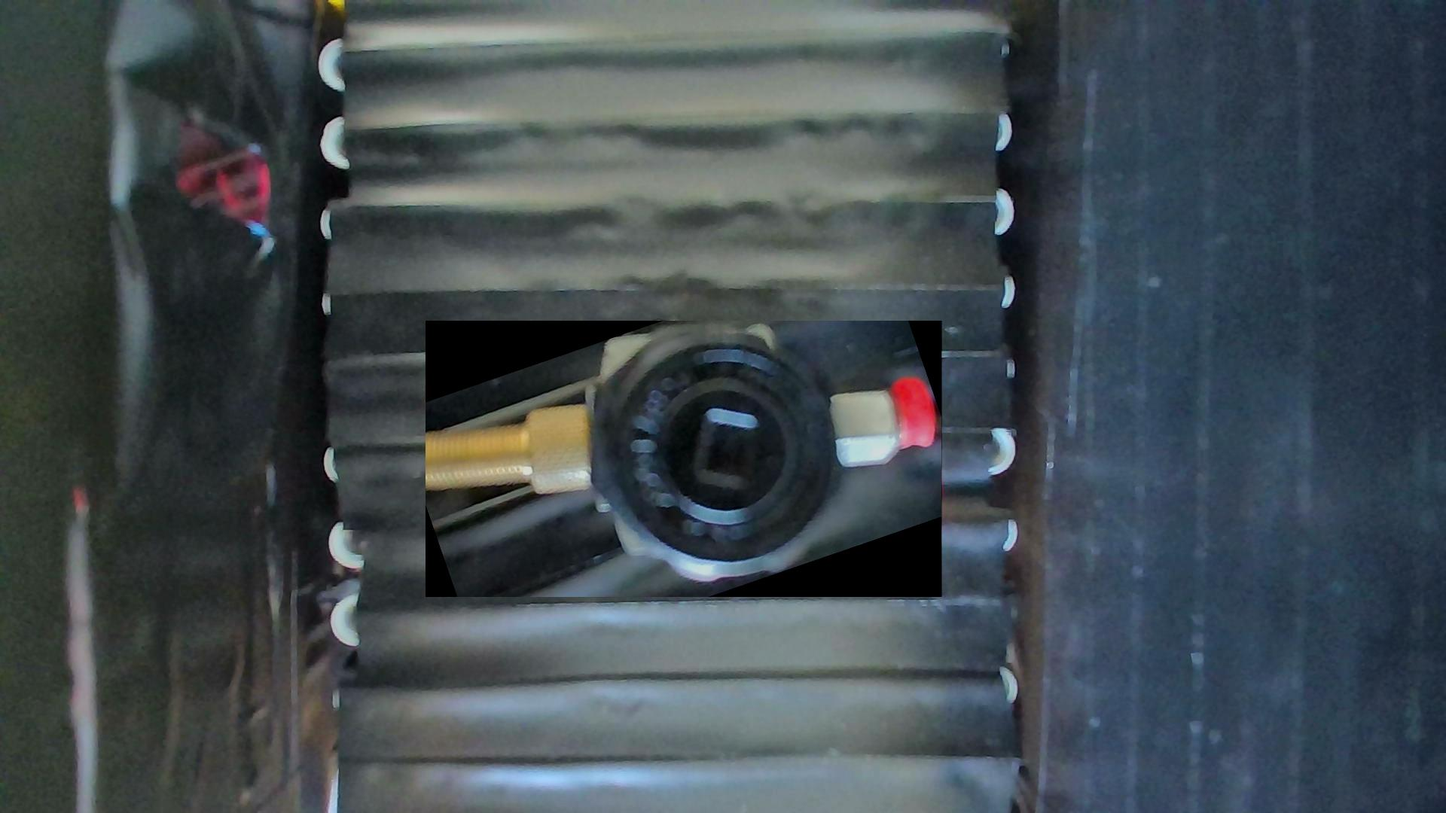regulator: (426, 321, 943, 597)
